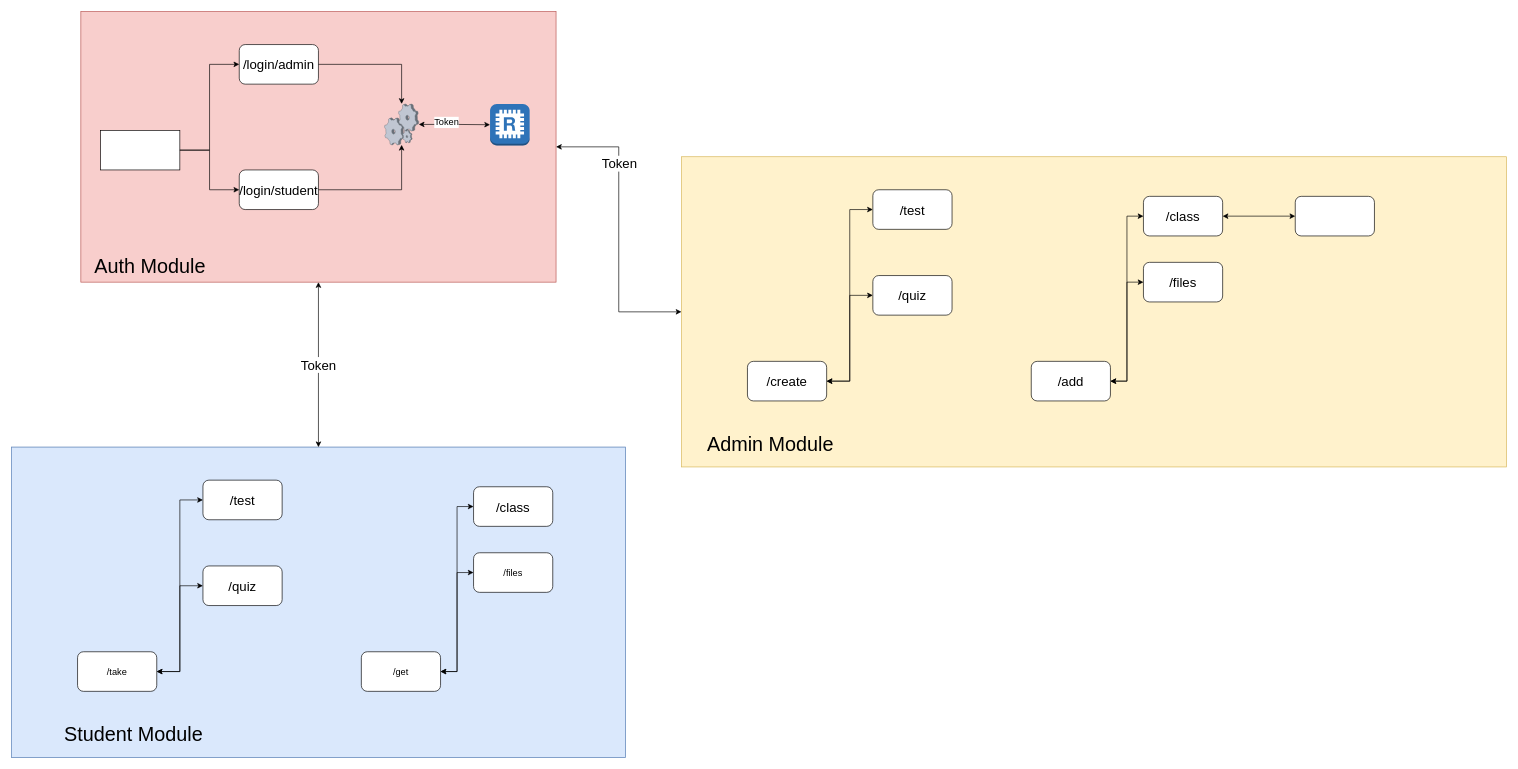
This 1518x769 diagram has some shape labels left out. The centre of each missing label's shape, as x and y in pixels:
"/students" goes at pixel 1334 216.
"credential authorization" goes at pixel 401 124.
"Login" goes at pixel 140 150.
